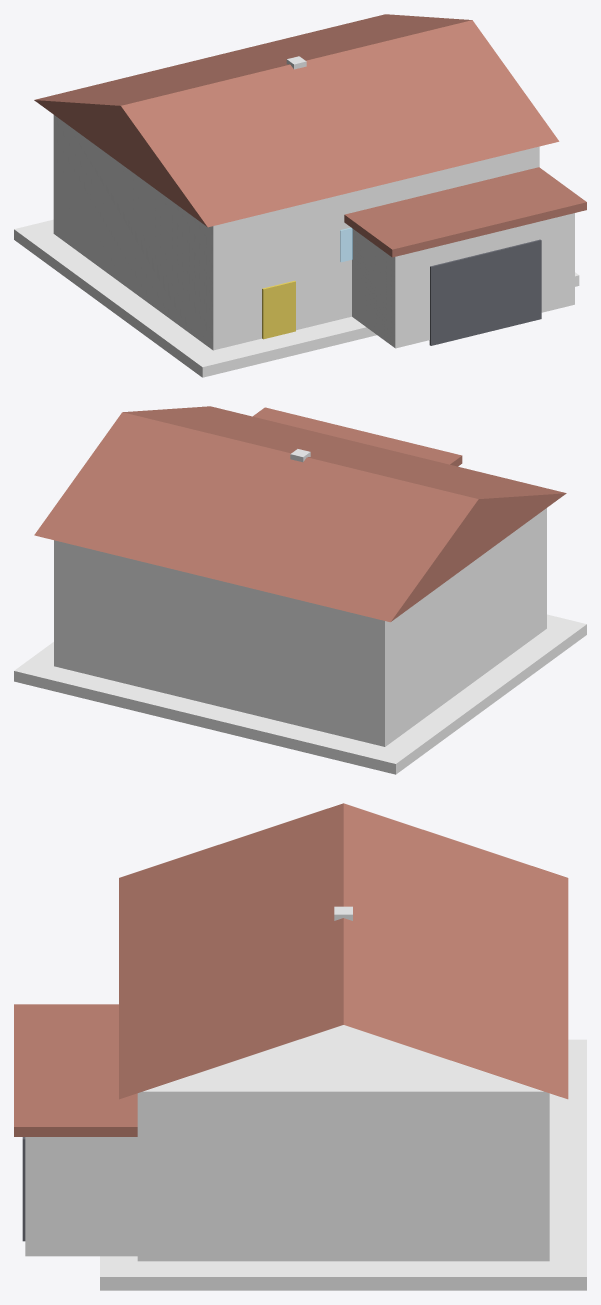
File: safehouse.glb
3 renders of one model, top to bottom at view 1: azimuth 30°, elevation 25°; view 2: azimuth 150°, elevation 25°; view 3: azimuth 270°, elevation 25°, orthographic. The views are drawn at different scales.
Visible parts, largest first — view 1: safehouse; view 2: safehouse; view 3: safehouse.
Part boxes in pixels (x1=…): safehouse: x1=14, y1=14, x2=586, y2=377; safehouse: x1=14, y1=406, x2=586, y2=774; safehouse: x1=14, y1=803, x2=586, y2=1290.
Size of the model in its own units: 15 by 7.7 by 15.3.
